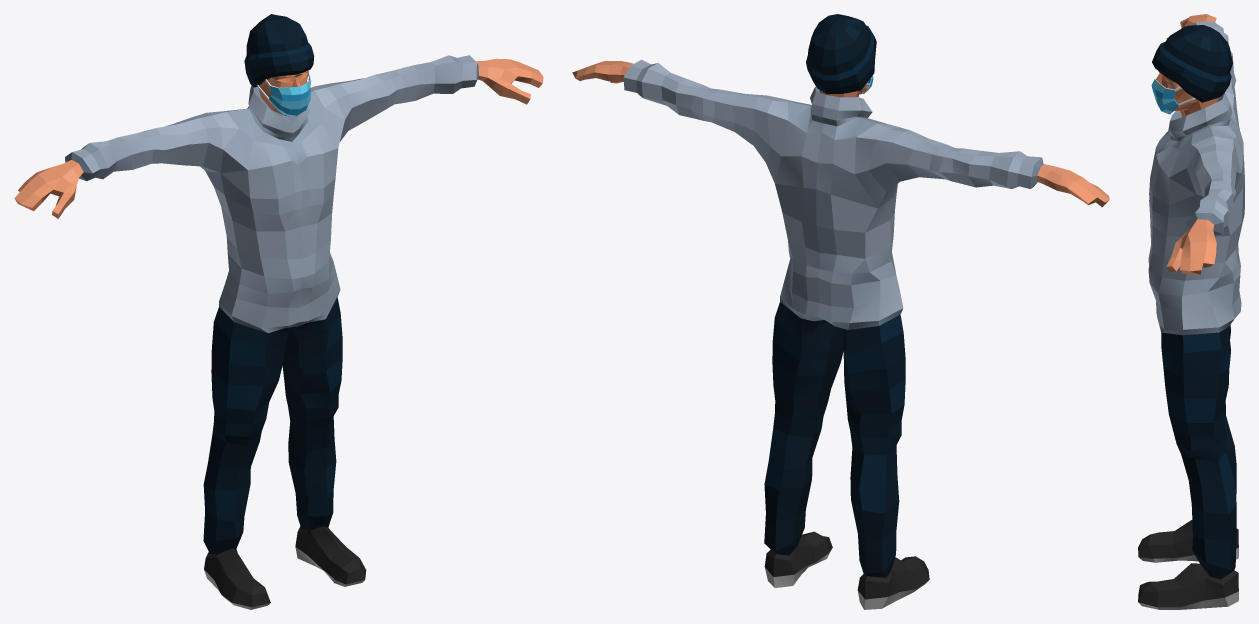
The model's file is winter_Male_B-model.obj.
The picture shows the model from 3 angles, left to right: view 1: azimuth 30°, elevation 25°; view 2: azimuth 150°, elevation 25°; view 3: azimuth 270°, elevation 25°; orthographic projection. The views are drawn at different scales.
Parts seen in each view (by area): view 1: winter_Male_B, acc_beannieHat, acc_mask_blue; view 2: winter_Male_B, acc_beannieHat; view 3: winter_Male_B, acc_beannieHat, acc_mask_blue.
Boxes of the visible parts, <box> form: winter_Male_B: <box>14,55,543,609</box>; acc_beannieHat: <box>244,14,314,87</box>; acc_mask_blue: <box>257,71,311,115</box>; winter_Male_B: <box>572,59,1109,609</box>; acc_beannieHat: <box>806,14,876,93</box>; winter_Male_B: <box>1138,14,1244,609</box>; acc_beannieHat: <box>1152,25,1232,102</box>; acc_mask_blue: <box>1151,77,1195,114</box>.
Bounding box in the file's own units: 168 × 171 × 29.98.
